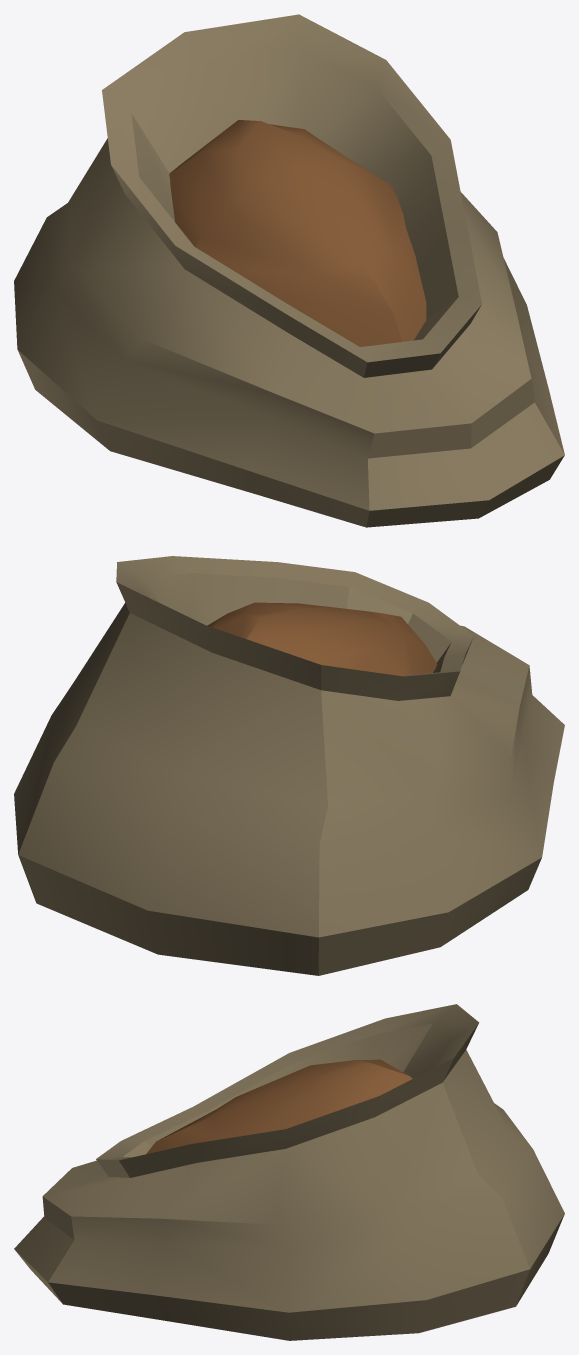
File: Bag_Open.gltf
3 renders of one model, top to bottom at view 1: azimuth 30°, elevation 25°; view 2: azimuth 150°, elevation 25°; view 3: azimuth 270°, elevation 25°, orthographic. The views are drawn at different scales.
Visible parts, largest first — view 1: Bag_Open; view 2: Bag_Open; view 3: Bag_Open.
Part boxes in pixels (bbox=[...]): Bag_Open: bbox=[14, 14, 564, 527]; Bag_Open: bbox=[14, 556, 564, 975]; Bag_Open: bbox=[14, 1004, 564, 1340].
Size of the model in its own units: 0.1502 by 0.1044 by 0.2035.
